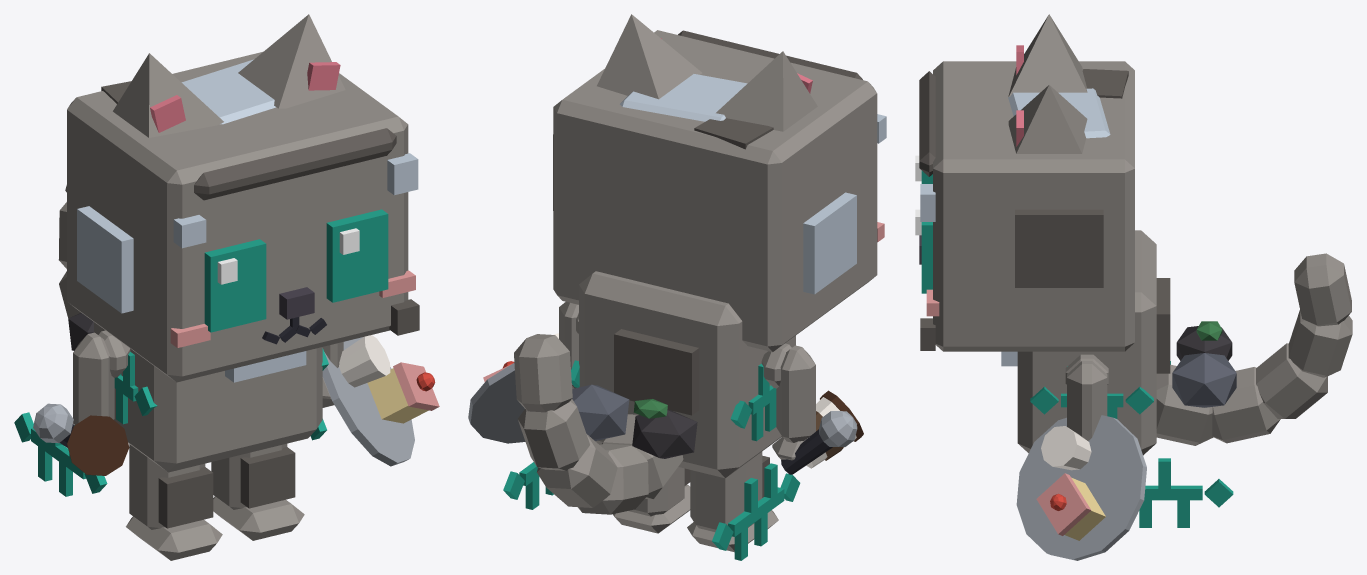
Rendered from CatCafe_Cat_Golem_Work.glb.
3 views of the same model, side by side, from view 1: azimuth 30°, elevation 25°; view 2: azimuth 150°, elevation 25°; view 3: azimuth 270°, elevation 25° (orthographic). The views are drawn at different scales.
Parts seen in each view (by area): view 1: CatCafe_Cat_Golem_Work_Head, CatCafe_Cat_Golem_Work_Body, CatCafe_Cat_Golem_Work_Held_Waiter, CatCafe_Cat_Golem_Work_LegB2, CatCafe_Cat_Golem_Work_LegB1, CatCafe_Cat_Golem_Work_EarL, CatCafe_Cat_Golem_Work_Eye1, CatCafe_Cat_Golem_Work_Eye2, CatCafe_Cat_Golem_Work_EarR, CatCafe_Cat_Golem_Work_Runes, CatCafe_Cat_Golem_Work_LegF2, CatCafe_Cat_Golem_Work_Held_Barista (+4 smaller); view 2: CatCafe_Cat_Golem_Work_Head, CatCafe_Cat_Golem_Work_Body, CatCafe_Cat_Golem_Work_Tail, CatCafe_Cat_Golem_Work_Runes, CatCafe_Cat_Golem_Work_Prop, CatCafe_Cat_Golem_Work_EarL, CatCafe_Cat_Golem_Work_EarR, CatCafe_Cat_Golem_Work_LegB2, CatCafe_Cat_Golem_Work_LegF2, CatCafe_Cat_Golem_Work_Held_Waiter, CatCafe_Cat_Golem_Work_LegB1, CatCafe_Cat_Golem_Work_Held_Entertainer (+2 smaller); view 3: CatCafe_Cat_Golem_Work_Head, CatCafe_Cat_Golem_Work_Tail, CatCafe_Cat_Golem_Work_Held_Waiter, CatCafe_Cat_Golem_Work_Body, CatCafe_Cat_Golem_Work_Prop, CatCafe_Cat_Golem_Work_EarL, CatCafe_Cat_Golem_Work_Runes, CatCafe_Cat_Golem_Work_EarR, CatCafe_Cat_Golem_Work_LegF1, CatCafe_Cat_Golem_Work_Eye1.
Part boxes in pixels (box(x1,y1,x2,y2)): CatCafe_Cat_Golem_Work_Head: box(67, 52, 419, 382); CatCafe_Cat_Golem_Work_Body: box(94, 322, 322, 472); CatCafe_Cat_Golem_Work_Held_Waiter: box(322, 335, 439, 466); CatCafe_Cat_Golem_Work_LegB2: box(126, 444, 222, 560); CatCafe_Cat_Golem_Work_LegB1: box(211, 443, 304, 540); CatCafe_Cat_Golem_Work_EarL: box(238, 14, 345, 108); CatCafe_Cat_Golem_Work_Eye1: box(326, 209, 388, 302); CatCafe_Cat_Golem_Work_Eye2: box(204, 239, 266, 332); CatCafe_Cat_Golem_Work_EarR: box(113, 53, 223, 137); CatCafe_Cat_Golem_Work_Runes: box(14, 348, 328, 496); CatCafe_Cat_Golem_Work_LegF2: box(73, 332, 114, 424); CatCafe_Cat_Golem_Work_Held_Barista: box(67, 415, 129, 475); CatCafe_Cat_Golem_Work_Head: box(553, 30, 886, 351); CatCafe_Cat_Golem_Work_Body: box(576, 271, 795, 478); CatCafe_Cat_Golem_Work_Tail: box(514, 334, 683, 514); CatCafe_Cat_Golem_Work_Runes: box(503, 360, 800, 560); CatCafe_Cat_Golem_Work_Prop: box(572, 384, 697, 458); CatCafe_Cat_Golem_Work_EarL: box(597, 14, 702, 99); CatCafe_Cat_Golem_Work_EarR: box(716, 51, 817, 131); CatCafe_Cat_Golem_Work_LegB2: box(687, 451, 778, 552); CatCafe_Cat_Golem_Work_LegF2: box(772, 345, 815, 460); CatCafe_Cat_Golem_Work_Held_Waiter: box(468, 333, 558, 443); CatCafe_Cat_Golem_Work_LegB1: box(613, 467, 690, 533); CatCafe_Cat_Golem_Work_Held_Entertainer: box(781, 411, 857, 474); CatCafe_Cat_Golem_Work_Head: box(919, 61, 1134, 351); CatCafe_Cat_Golem_Work_Tail: box(1156, 253, 1352, 445); CatCafe_Cat_Golem_Work_Held_Waiter: box(1016, 415, 1146, 560); CatCafe_Cat_Golem_Work_Body: box(1001, 230, 1170, 455); CatCafe_Cat_Golem_Work_Prop: box(1172, 321, 1236, 407); CatCafe_Cat_Golem_Work_EarL: box(1008, 85, 1087, 153); CatCafe_Cat_Golem_Work_Runes: box(1030, 361, 1233, 527); CatCafe_Cat_Golem_Work_EarR: box(1008, 14, 1087, 96); CatCafe_Cat_Golem_Work_LegF1: box(1067, 361, 1107, 440); CatCafe_Cat_Golem_Work_Eye1: box(915, 209, 932, 293).
Bounding box in the file's own units: 1.84 × 2.31 × 1.97.
1 material, 1 textured.
